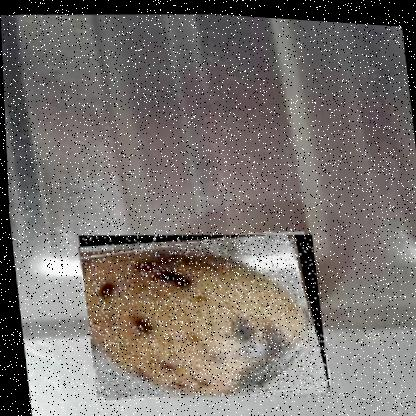mango_rotten: (74, 216, 328, 408)
